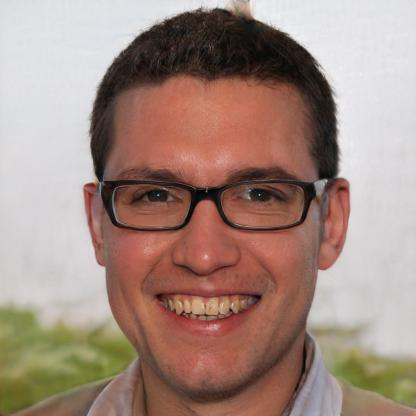glasses: (96, 172, 322, 234)
